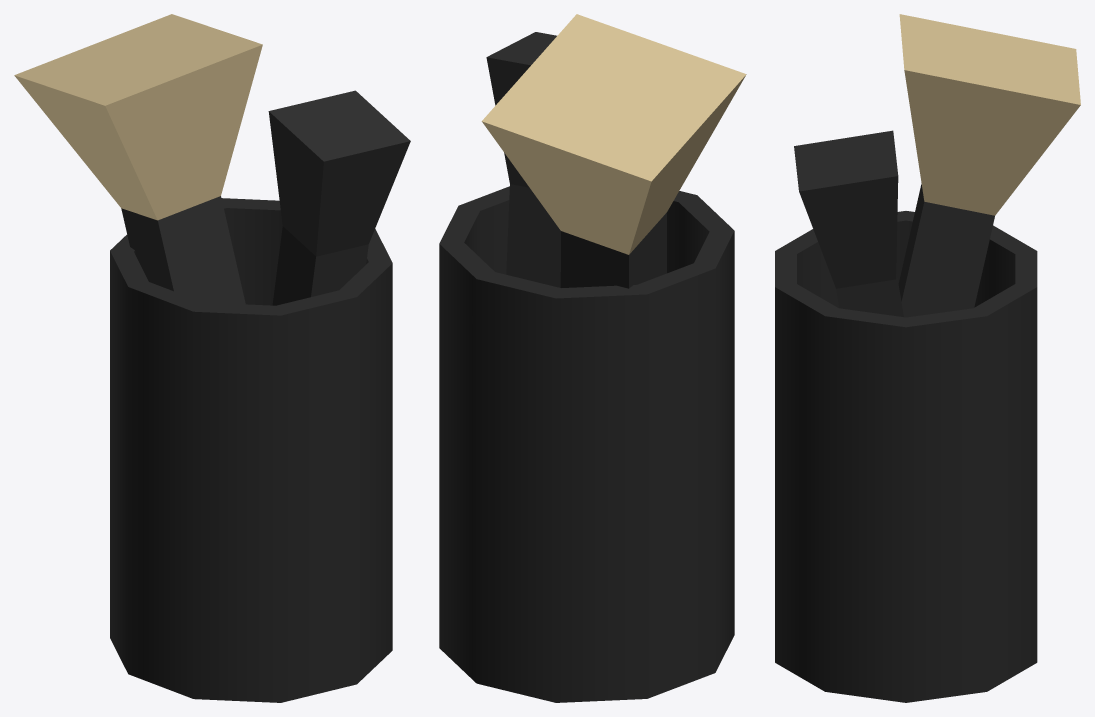
Rendered from BrushCup_01.fbx.
3 views of the same model, side by side, from view 1: azimuth 30°, elevation 25°; view 2: azimuth 150°, elevation 25°; view 3: azimuth 270°, elevation 25° (orthographic). The views are drawn at different scales.
Visible parts, largest first — view 1: BrushCup_01; view 2: BrushCup_01; view 3: BrushCup_01.
Boxes of the visible parts, x1=… form: BrushCup_01: x1=14, y1=14, x2=410, y2=702; BrushCup_01: x1=439, y1=14, x2=746, y2=702; BrushCup_01: x1=775, y1=14, x2=1080, y2=702.
Bounding box in the file's own units: 27.64 × 57.9 × 27.7.
